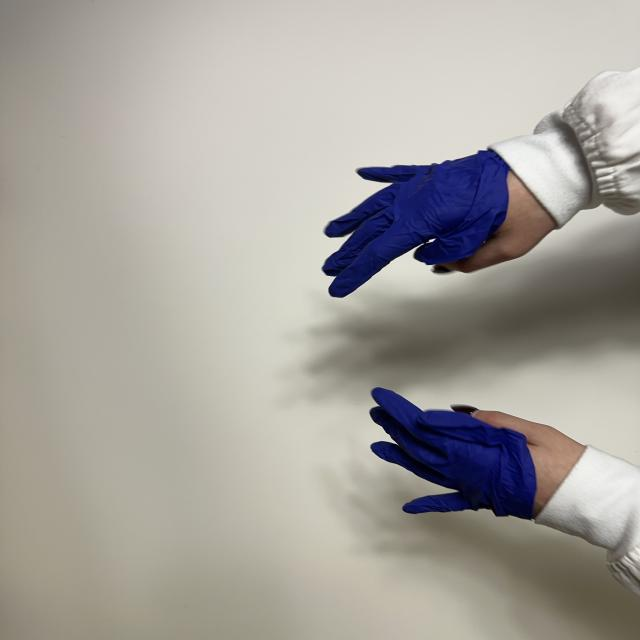glove_partial: (325, 146, 556, 297), (370, 388, 586, 519)
